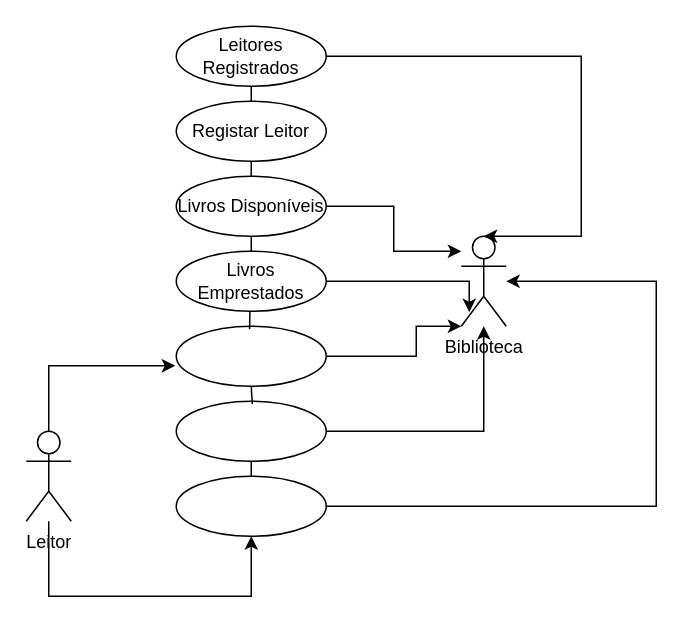
Image size: 695x635. Some labels were removed from this diagram. The centre of each missing label's shape, as x and y in pixels:
"Devolução" goes at pixel 250 505.
"Empréstimo" goes at pixel 250 355.
"Histórico" goes at pixel 250 430.
